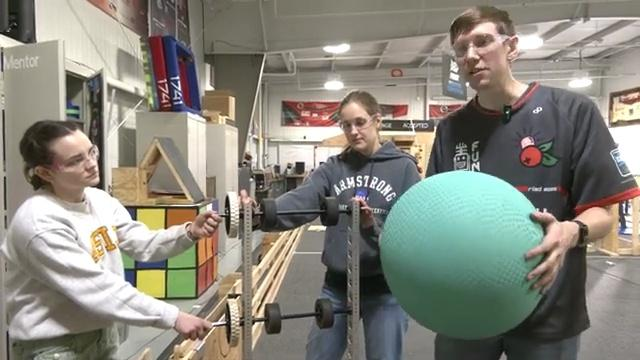ALGAE: (377, 168, 547, 341)
